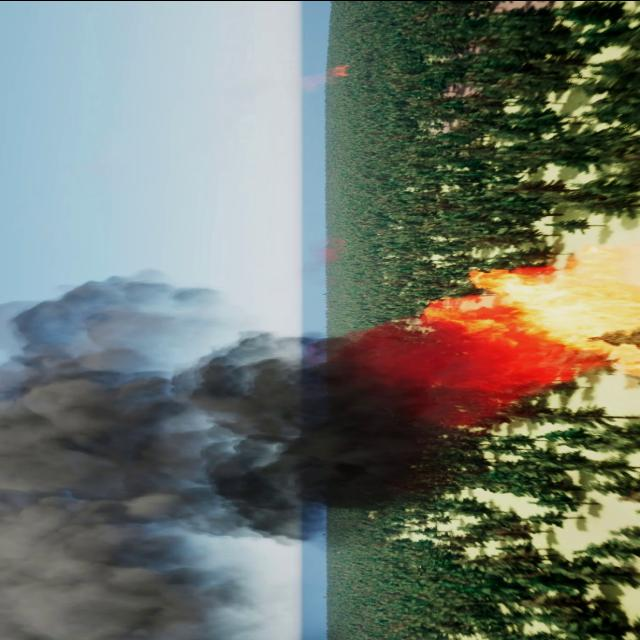fire: (402, 247, 636, 416)
smoke: (0, 272, 393, 640), (290, 63, 347, 89), (306, 238, 344, 264)
